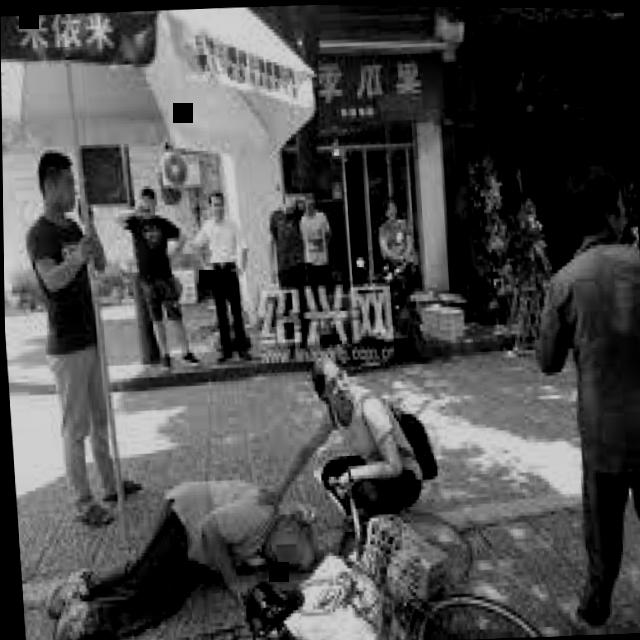Fall-Detected: (21, 446, 329, 640)
